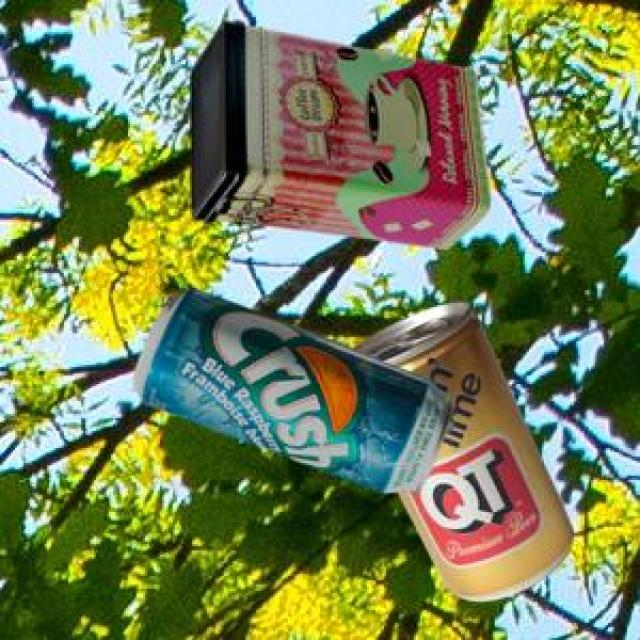logam: (187, 18, 487, 246), (131, 285, 451, 490), (351, 300, 571, 598)
